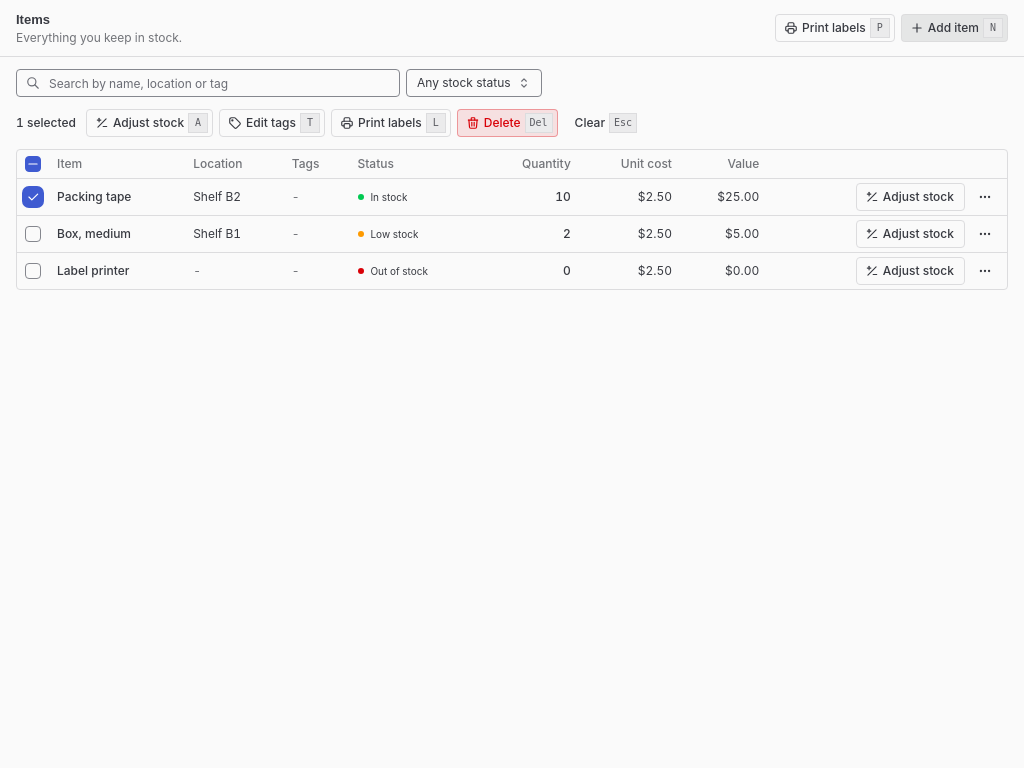
Test: ItemsPage › selects items and applies bulk actions to them
Earlier steps of the test are not shown.
Later steps or results of the test are not shown.
Click the checkbox named "Select Box, medium" at x=33, y=234, box left=25, top=226, right=41, bottom=242
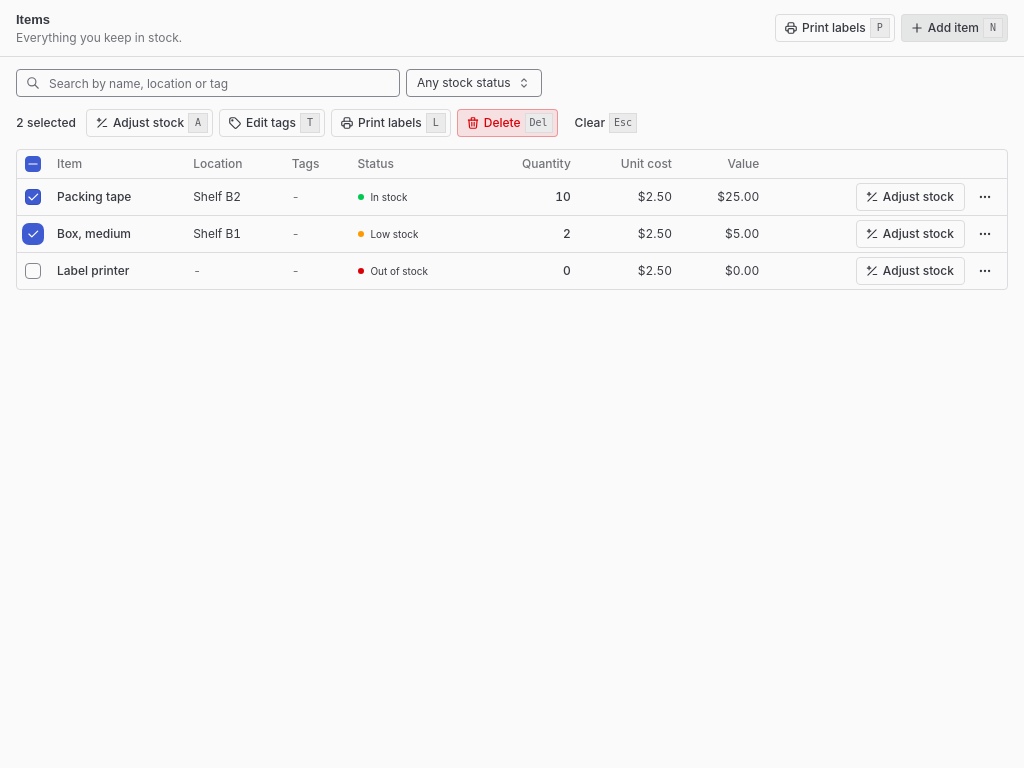
Expected: the text "2 selected" is shown, left=16, top=115, right=76, bottom=131
Click the button "Adjust stock A" at x=150, y=123, box left=86, top=109, right=213, bottom=137
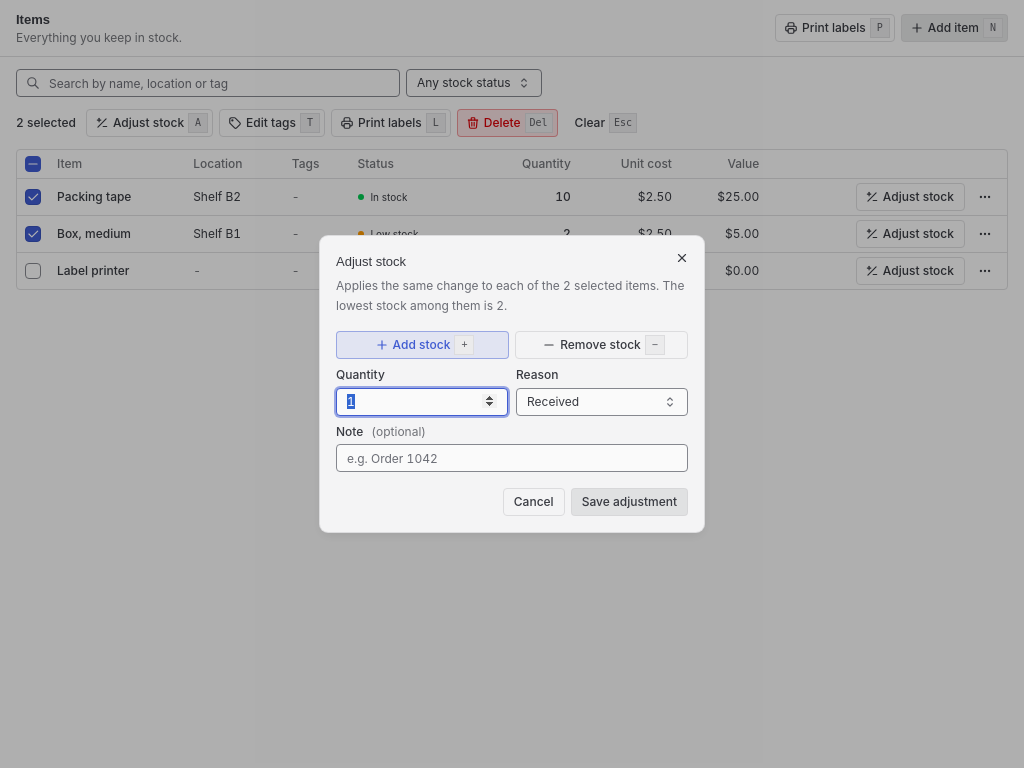
Click the button "Remove stock −" at x=602, y=345, box left=515, top=331, right=688, bottom=359
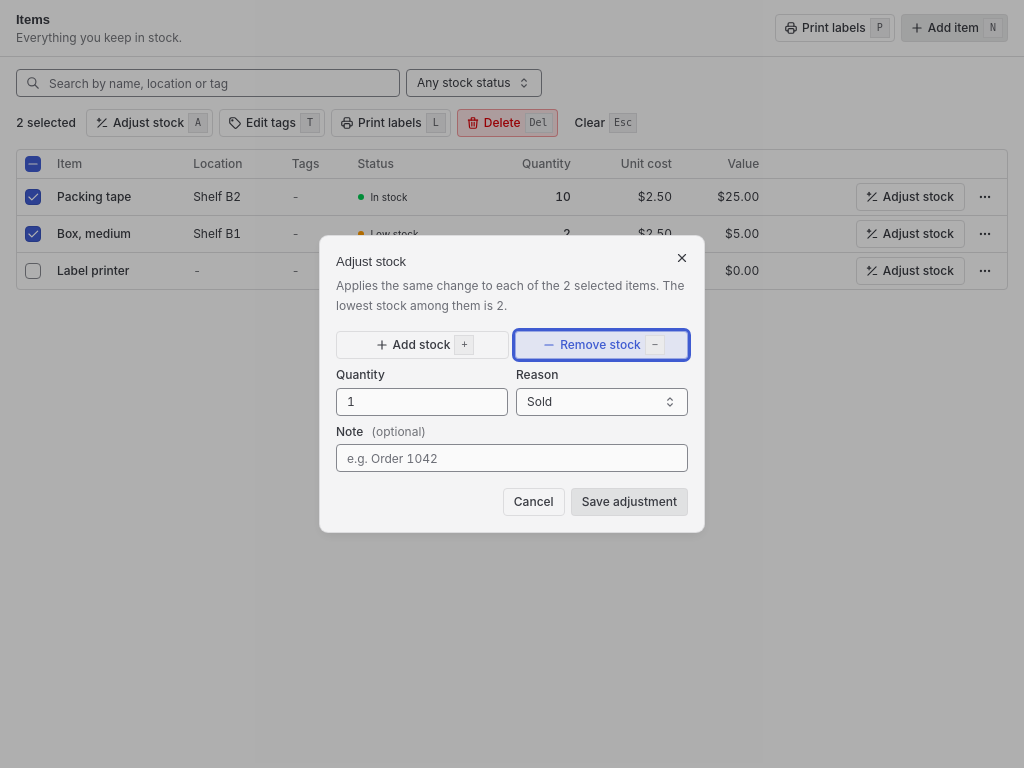
Clear the number field labelled "Quantity" at x=422, y=402, box left=336, top=388, right=508, bottom=416
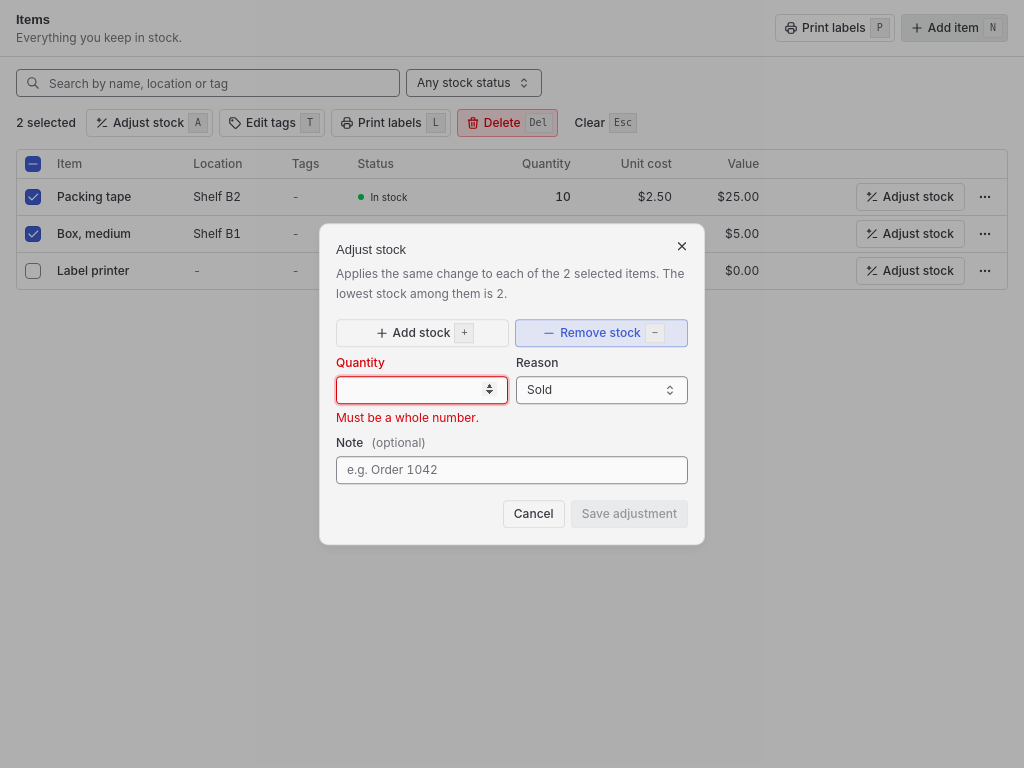
Type "3" into the number field labelled "Quantity" at x=422, y=390, box left=336, top=376, right=508, bottom=404
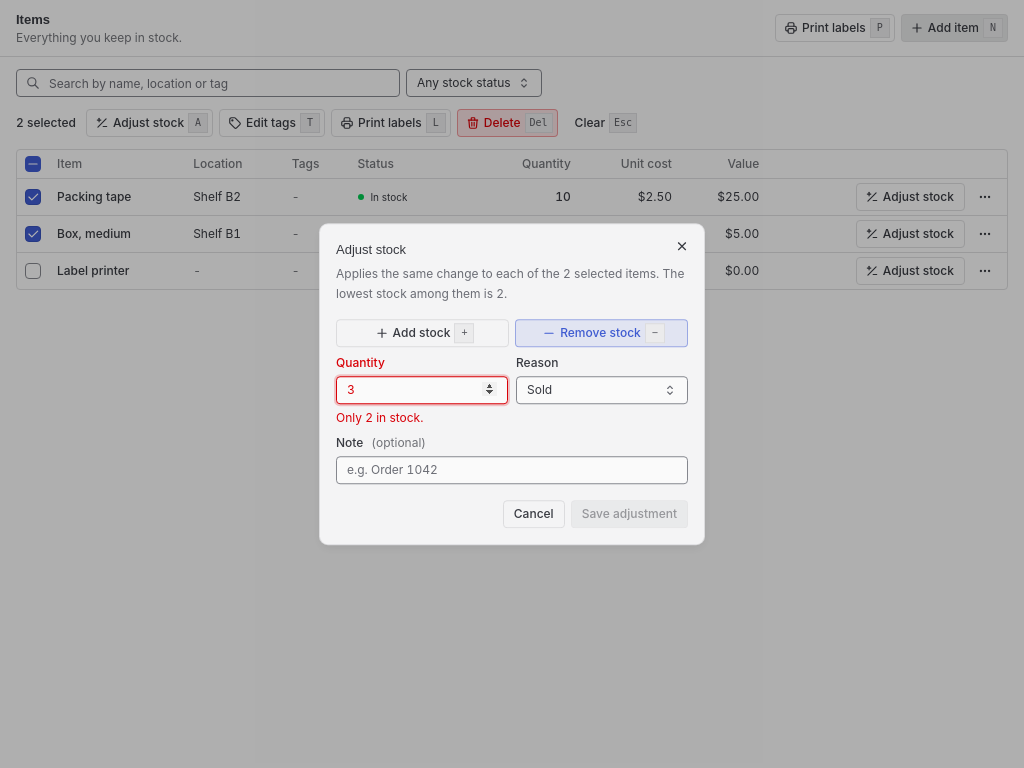
Expected: the text "Only 2 in stock." is shown, left=336, top=410, right=423, bottom=425
Replace the text in the number field labelled "Quantity" with "2" at x=422, y=390, box left=336, top=376, right=508, bottom=404
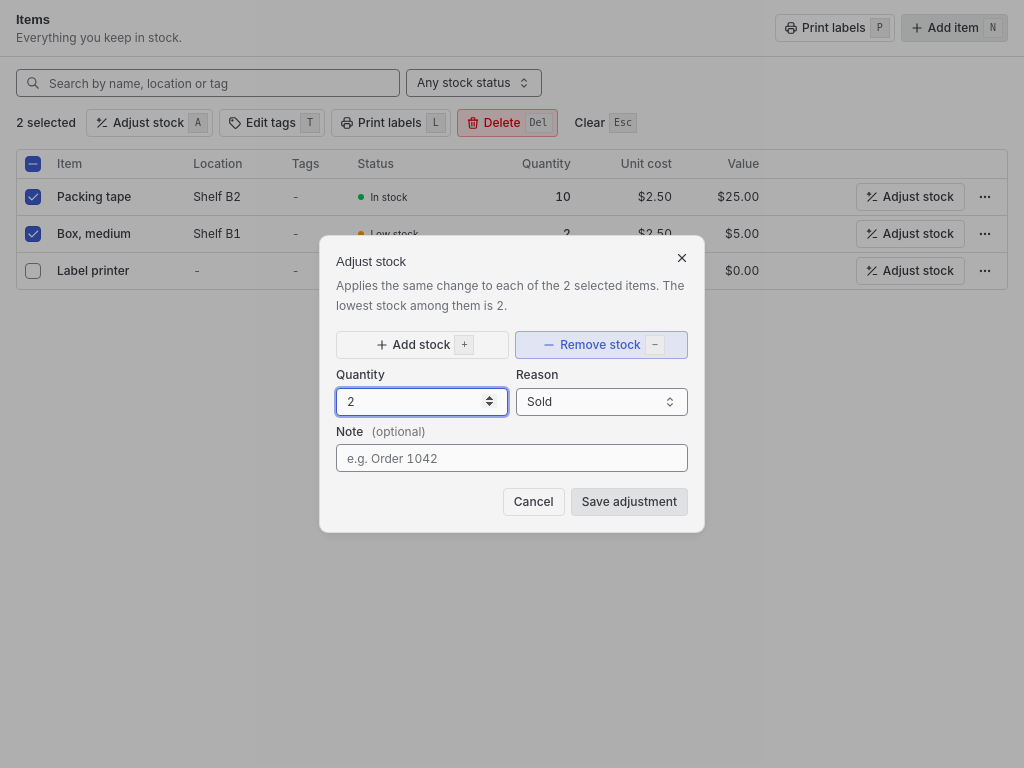
Expected: the button "Save adjustment" is enabled, left=571, top=488, right=688, bottom=516
